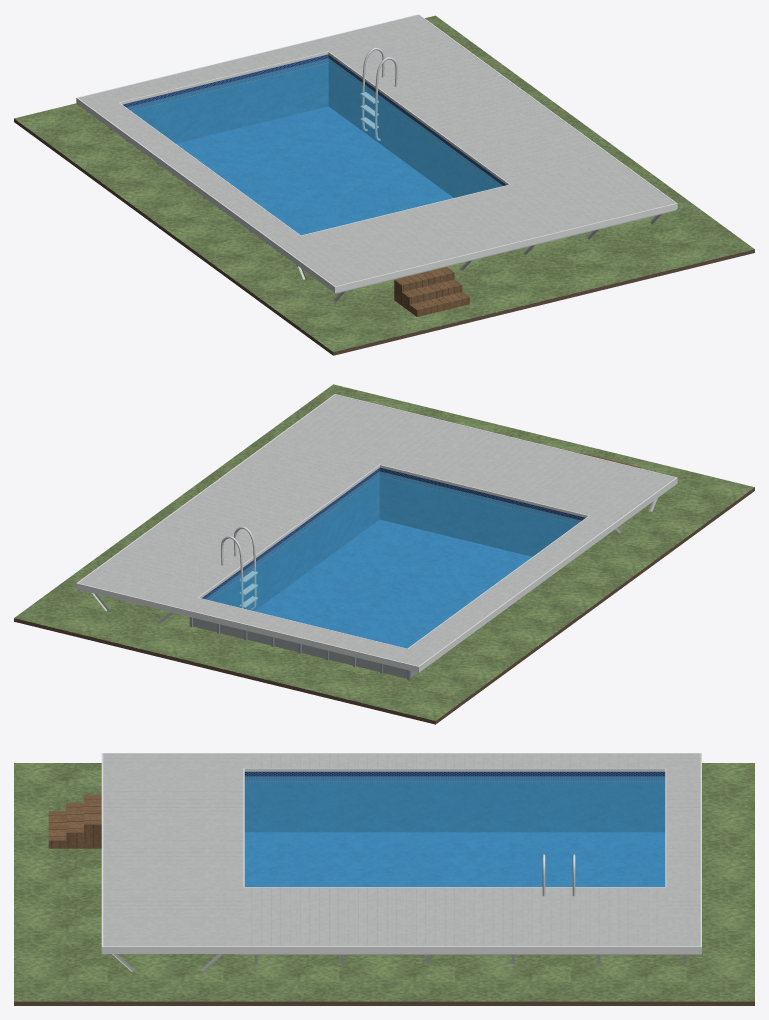
The model's file is kayak-pool-16x24-gray-endside-rec-nofence.3a3811a054.glb.
The picture shows the model from 3 angles, top to bottom: view 1: azimuth 30°, elevation 25°; view 2: azimuth 150°, elevation 25°; view 3: azimuth 270°, elevation 25°; orthographic projection. The views are drawn at different scales.
Parts seen in each view (by area): view 1: deck, ground, water, liner_floor, liner_wall, fascia, soil, steps, steel, stud; view 2: deck, ground, water, liner_floor, liner_wall, fascia, soil, wall, steel; view 3: deck, ground, water, liner_wall, liner_floor, fascia, soil, steps, stud.
Part boxes in pixels (x1,y1,x2,y2): deck: (78,15,675,286); ground: (14,15,754,351); water: (126,58,502,234); liner_floor: (176,106,453,235); liner_wall: (123,54,506,197); fascia: (76,14,677,292); soil: (14,119,754,355); steps: (394,267,469,316); steel: (360,47,397,140); stud: (277,210,675,301); deck: (78,395,674,665); ground: (14,384,754,720); water: (205,471,581,648); liner_floor: (255,520,531,648); liner_wall: (201,467,585,610); fascia: (76,394,677,672); soil: (14,487,754,724); wall: (193,617,417,678); steel: (220,526,257,610); deck: (103,754,700,946); ground: (14,763,754,1001); water: (244,776,665,886); liner_wall: (244,771,665,832); liner_floor: (244,832,665,886); fascia: (101,753,701,953); soil: (14,1001,754,1005); steps: (48,795,101,848); stud: (103,954,700,971).
Size of the model in its own units: 9.75 by 1.9 by 12.79.
Materials: 12 (5 with a texture image).
